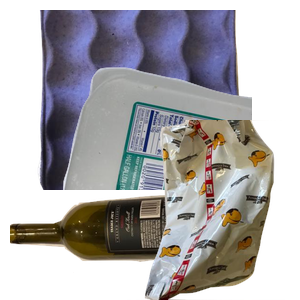glass: (10, 189, 250, 300)
paper: (35, 10, 268, 190)
plastic: (60, 65, 300, 245)
trash: (127, 120, 300, 300)
